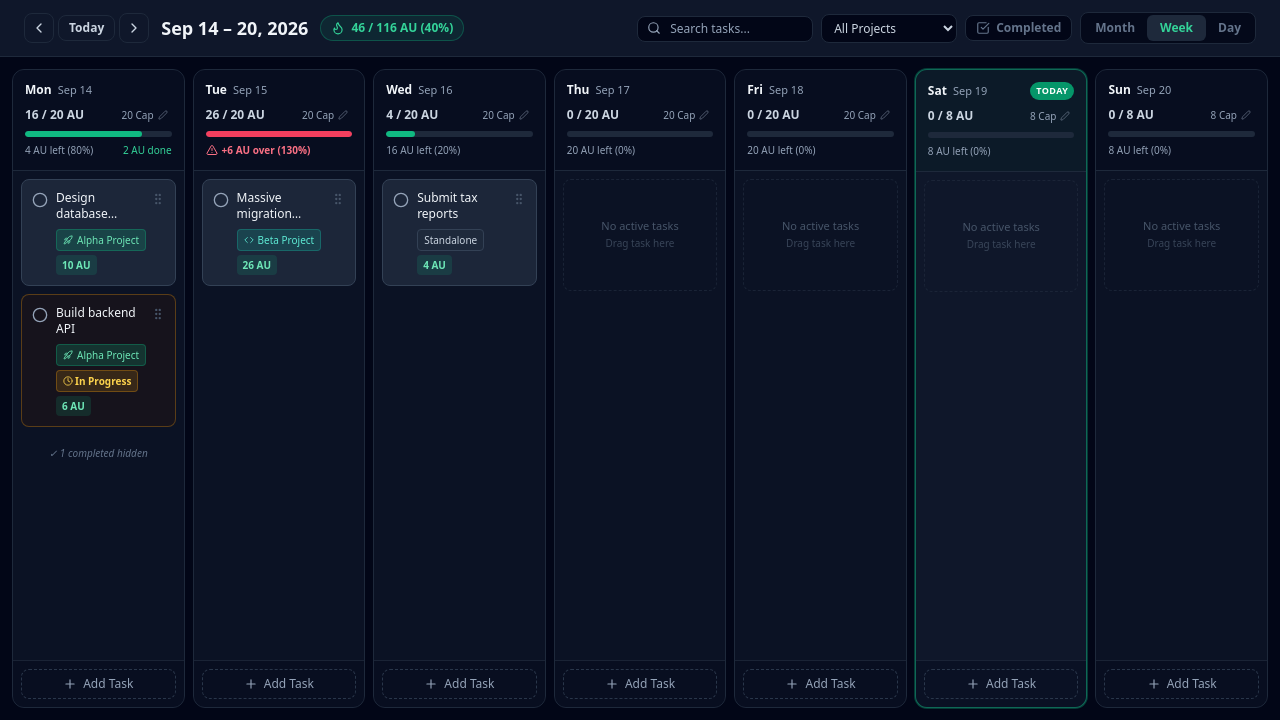
Test case: TaskCalendarView - Dedicated Full Task Calendar › supports toggling completed tasks visibility in the calendar toolbar
The width and height of the screenshot is (1280, 720).
# Toggle on to show completed tasks
Step 1. Click the button with test id "calendar-toggle-completed" → {"x": 1019, "y": 28}, box [965,15,1072,41]
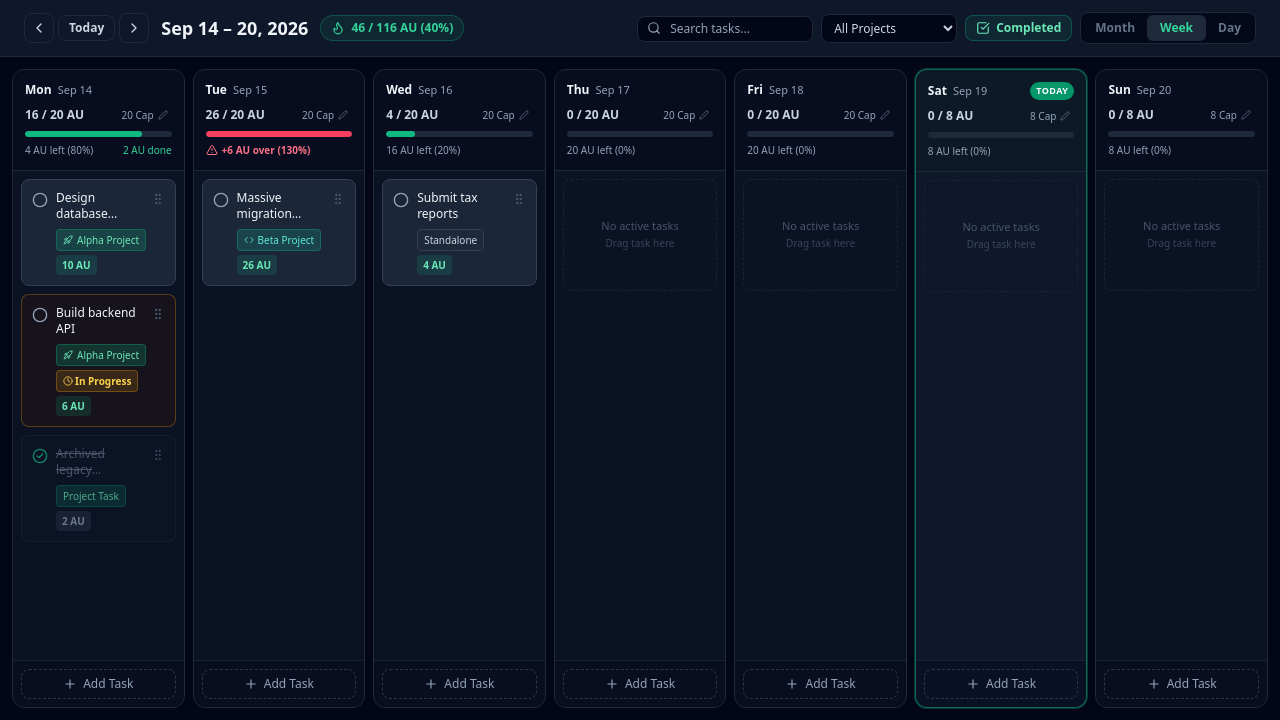
Expected: the text "Archived legacy milestone" is shown, [56,444,112,494]
# Toggle off again
Step 2. Click the button with test id "calendar-toggle-completed" → {"x": 1019, "y": 28}, box [965,15,1072,41]
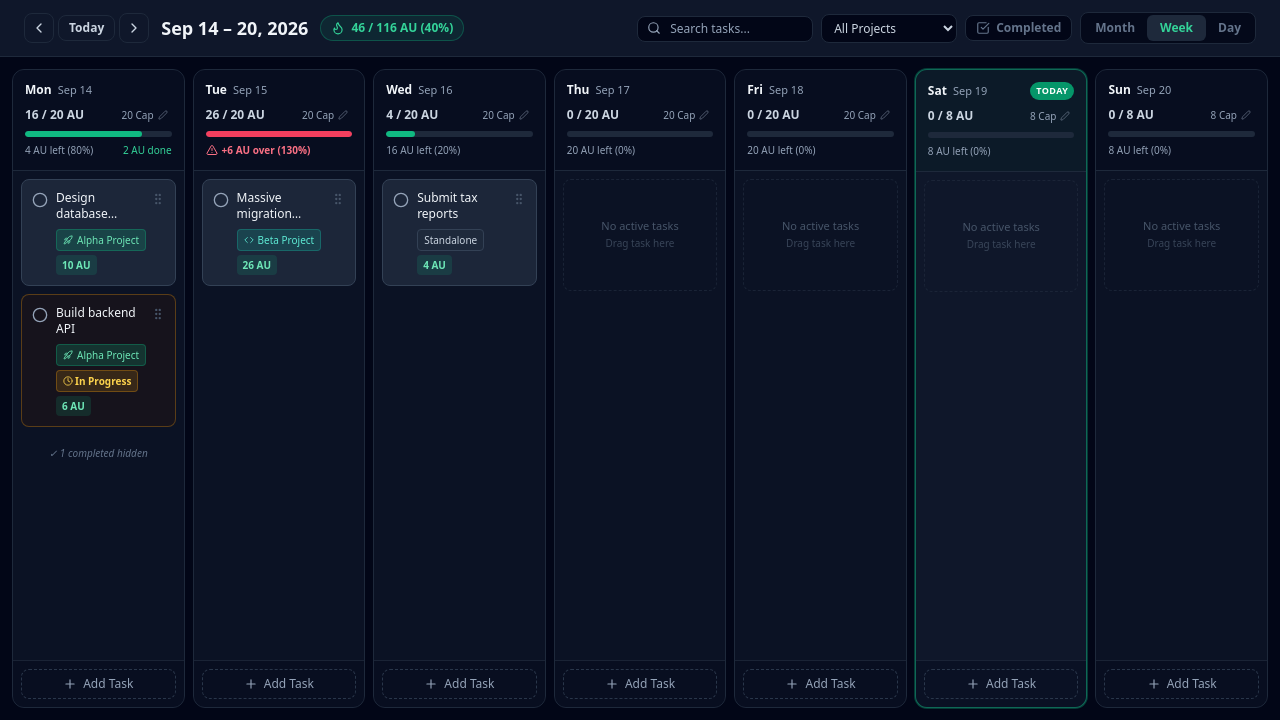
Expected: the text "Archived legacy milestone" is gone
